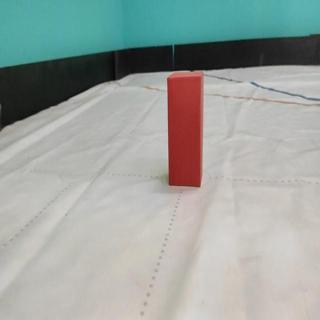redbox: (167, 71, 205, 187)
